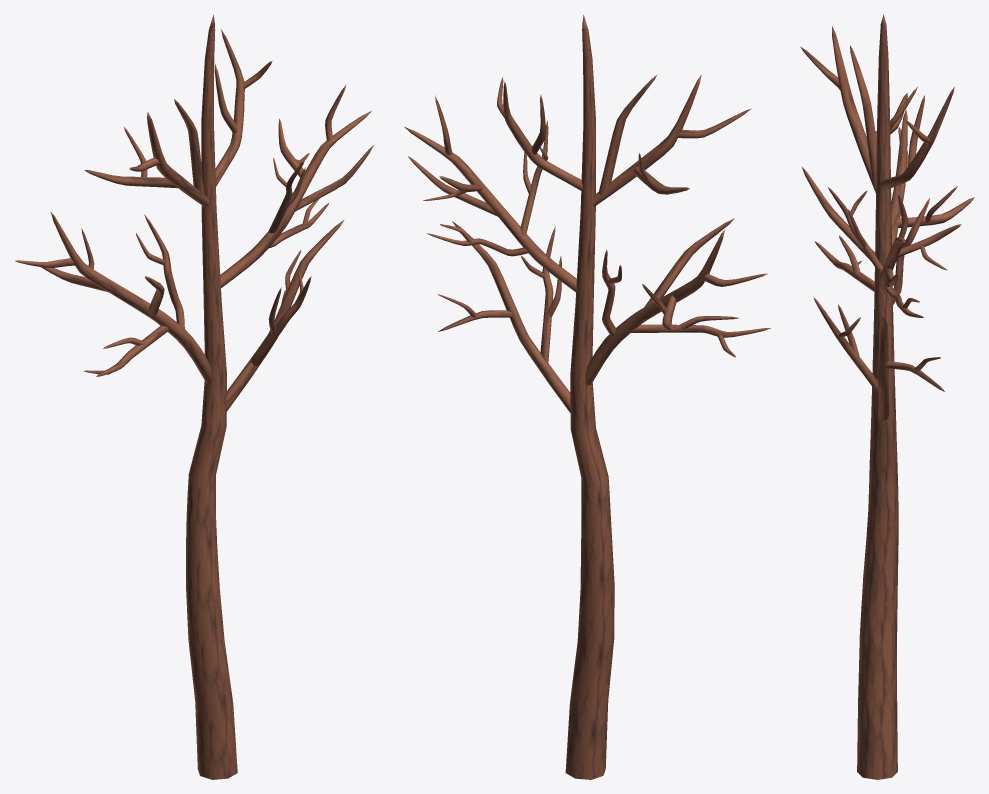
File: dead_tree_1.gltf
The picture shows the model from 3 angles, left to right: view 1: azimuth 30°, elevation 25°; view 2: azimuth 150°, elevation 25°; view 3: azimuth 270°, elevation 25°; orthographic projection.
Parts seen in each view (by area): view 1: DeadTree_1; view 2: DeadTree_1; view 3: DeadTree_1.
Part boxes in pixels (x1,y1,x2,y2): DeadTree_1: (15,15,373,779); DeadTree_1: (404,15,770,779); DeadTree_1: (800,14,974,779).
Bounding box in the file's own units: 3.09 × 6.2 × 1.3.
1 material, 1 textured.
